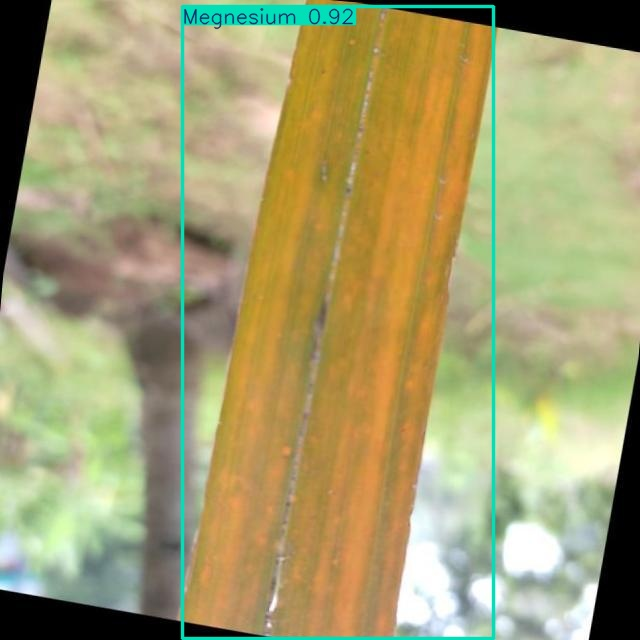Megnesium: (182, 7, 494, 638)
